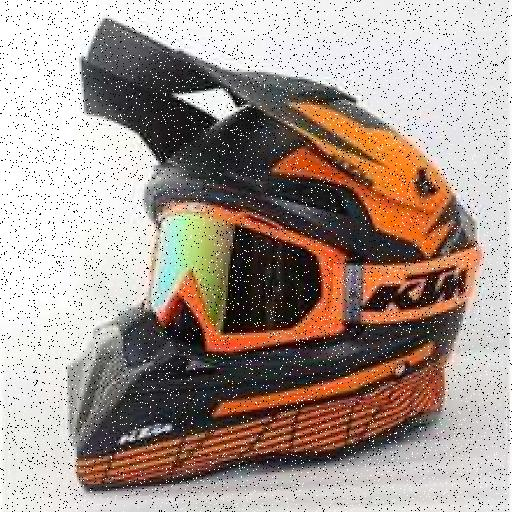Helmet: (38, 15, 492, 505)
